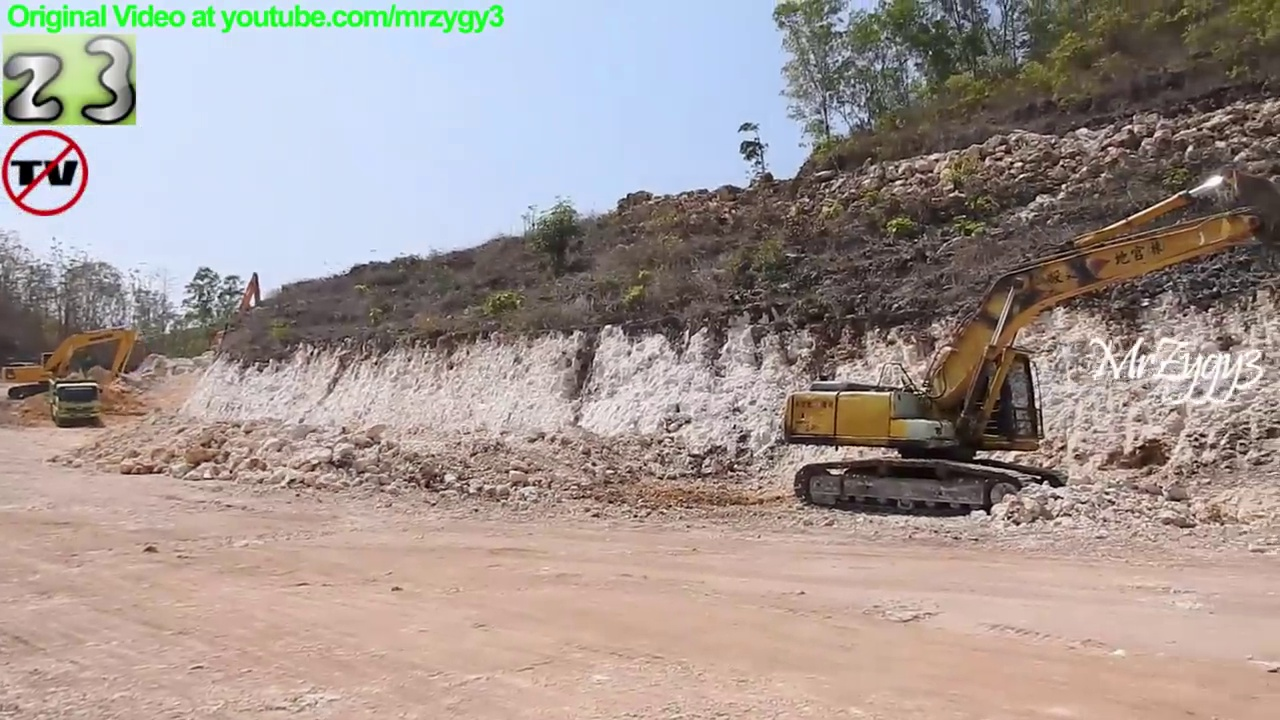excavator: (778, 164, 1280, 521), (2, 324, 137, 403), (206, 269, 269, 358)
truck: (46, 374, 105, 428)
